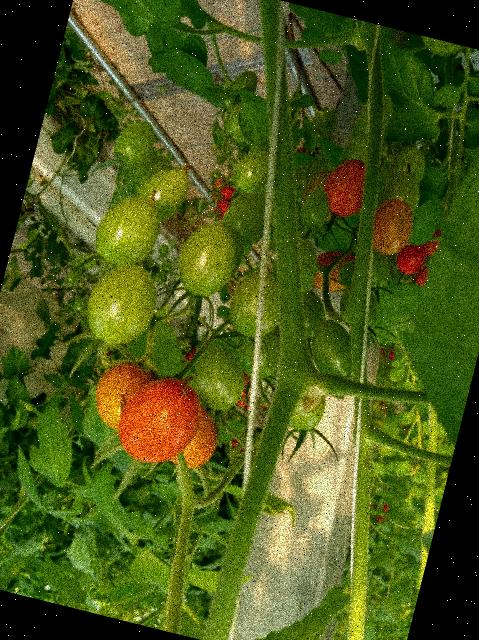l_fully_ripened: (394, 240, 428, 278)
l_green: (79, 255, 164, 353), (88, 188, 165, 278), (171, 215, 243, 302), (224, 266, 291, 345), (184, 343, 252, 416), (266, 231, 324, 303), (131, 159, 191, 228), (304, 318, 363, 380), (216, 188, 270, 254), (230, 322, 286, 382), (332, 280, 385, 336), (110, 115, 159, 173), (229, 144, 273, 199), (376, 167, 424, 215), (130, 151, 175, 201), (292, 289, 332, 344), (287, 157, 327, 209), (386, 142, 429, 188), (288, 389, 328, 437), (296, 184, 334, 233), (215, 227, 249, 280), (349, 107, 391, 148), (219, 100, 255, 146), (364, 248, 396, 294), (359, 89, 398, 126), (300, 166, 332, 210), (339, 131, 372, 170), (218, 81, 246, 115), (230, 68, 259, 100), (335, 258, 358, 288)
l_half_ripened: (110, 367, 209, 474), (88, 357, 157, 437), (168, 399, 225, 475), (319, 153, 373, 221), (365, 194, 418, 261), (309, 245, 356, 296)
